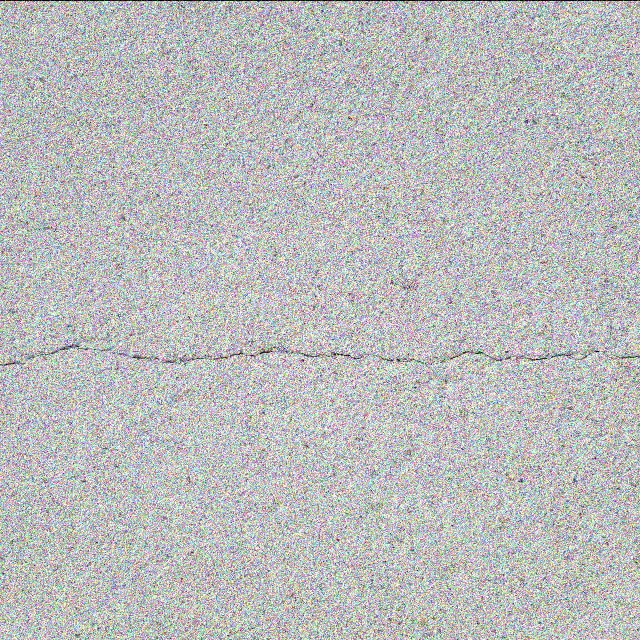SurfaceCrack: (1, 289, 640, 411)
